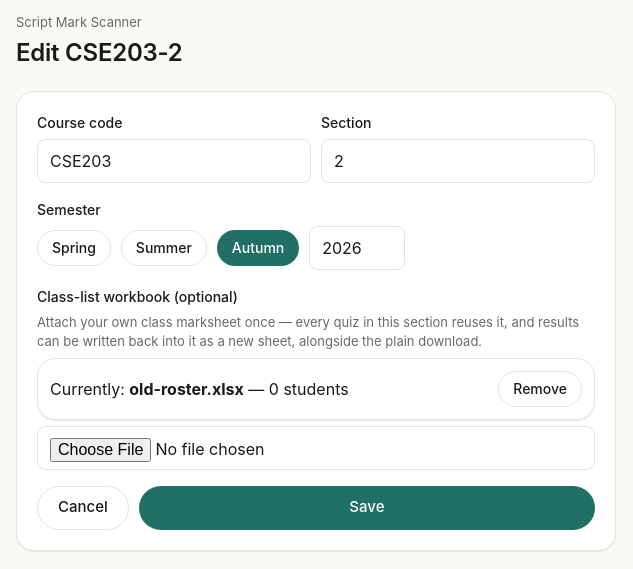
SectionForm — class-list workbook upload › editing a section with an existing workbook shows it, with a Remove option
Check: the text "old-roster.xlsx" is shown, box [129, 378, 244, 398]
What coordinates should you click on to do the following:
click the button "Remove"
I would click on:
 (540, 388)
Its box is [498, 370, 582, 406].
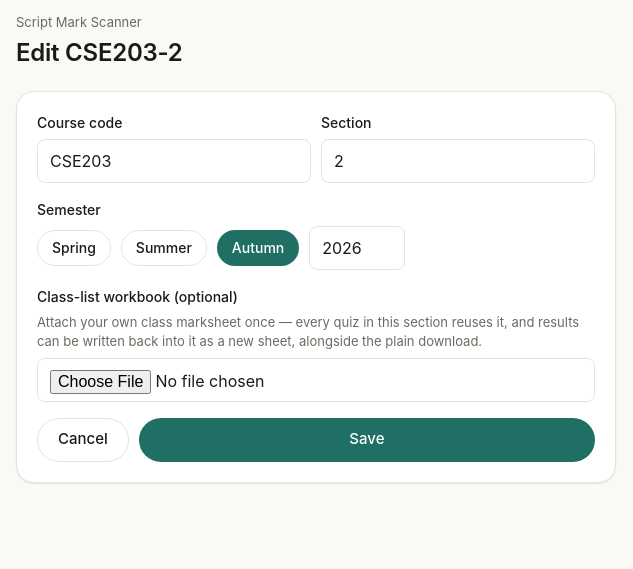
Check: the text "old-roster.xlsx" is gone
